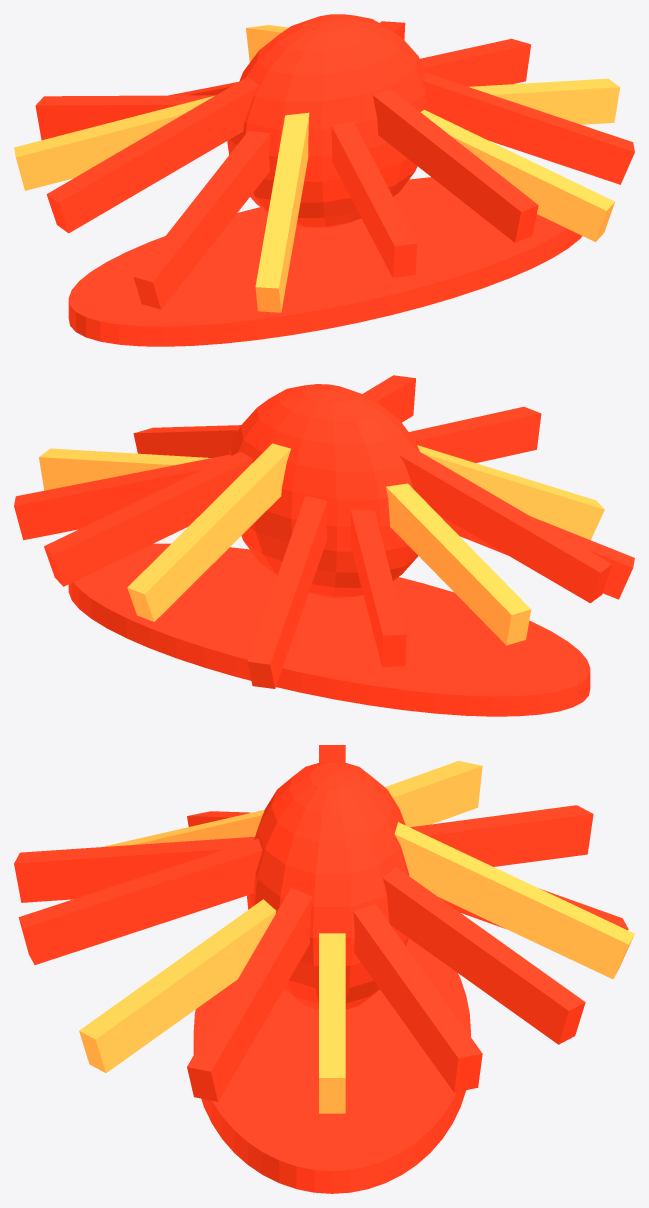
The model's file is execution_burst.glb.
3 renders of one model, top to bottom at view 1: azimuth 30°, elevation 25°; view 2: azimuth 150°, elevation 25°; view 3: azimuth 270°, elevation 25°, orthographic. The views are drawn at different scales.
Parts seen in each view (by area): view 1: execution blood seal, execution burst heart, execution burst lash 7, execution burst lash 13, execution burst lash 11, execution burst lash 8, execution burst lash 12, execution burst lash 6, execution burst lash 10, execution burst lash 9, execution burst lash 0, execution burst lash 5 (+2 smaller); view 2: execution blood seal, execution burst heart, execution burst lash 7, execution burst lash 3, execution burst lash 2, execution burst lash 6, execution burst lash 4, execution burst lash 1, execution burst lash 9, execution burst lash 5, execution burst lash 10, execution burst lash 0 (+3 smaller); view 3: execution blood seal, execution burst heart, execution burst lash 11, execution burst lash 3, execution burst lash 2, execution burst lash 12, execution burst lash 13, execution burst lash 1, execution burst lash 10, execution burst lash 5, execution burst lash 0, execution burst lash 6 (+2 smaller).
Part boxes in pixels (box(x1,y1,x2,y2)): execution blood seal: box(68, 177, 582, 346); execution burst heart: box(227, 14, 429, 227); execution burst lash 7: box(46, 77, 259, 233); execution burst lash 13: box(423, 72, 634, 184); execution burst lash 11: box(372, 89, 538, 242); execution burst lash 8: box(133, 130, 270, 309); execution burst lash 12: box(420, 110, 614, 241); execution burst lash 6: box(14, 95, 214, 190); execution burst lash 10: box(331, 121, 417, 277); execution burst lash 9: box(255, 112, 309, 312); execution burst lash 0: box(469, 78, 619, 124); execution burst lash 5: box(35, 95, 215, 140); execution blood seal: box(68, 543, 590, 716); execution burst heart: box(229, 384, 419, 597); execution burst lash 7: box(399, 447, 612, 603); execution burst lash 3: box(127, 443, 290, 621); execution burst lash 2: box(44, 451, 252, 586); execution burst lash 6: box(386, 483, 531, 645); execution burst lash 4: box(247, 496, 327, 688); execution burst lash 1: box(14, 454, 230, 540); execution burst lash 9: box(417, 445, 604, 540); execution burst lash 5: box(350, 509, 406, 667); execution burst lash 10: box(409, 406, 541, 462); execution burst lash 0: box(39, 448, 210, 490); execution blood seal: box(193, 938, 470, 1193); execution burst heart: box(247, 761, 409, 1009); execution burst lash 11: box(18, 838, 262, 964); execution burst lash 3: box(394, 822, 634, 979); execution burst lash 2: box(383, 866, 585, 1044); execution burst lash 12: box(79, 899, 276, 1072); execution burst lash 13: box(187, 888, 312, 1101); execution burst lash 1: box(353, 904, 482, 1092); execution burst lash 10: box(14, 836, 254, 902); execution burst lash 5: box(410, 805, 593, 866); execution burst lash 0: box(319, 933, 345, 1113); execution burst lash 6: box(385, 761, 482, 827).
Bounding box in the file's own units: 0.9303 × 0.396 × 0.7901.
